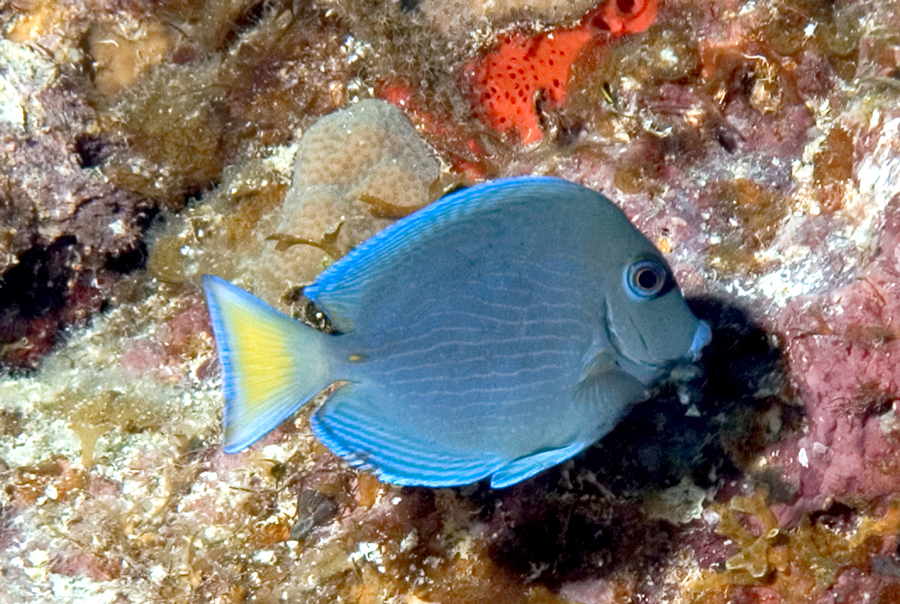Acanthurus_coeruleus: (200, 174, 714, 495)
